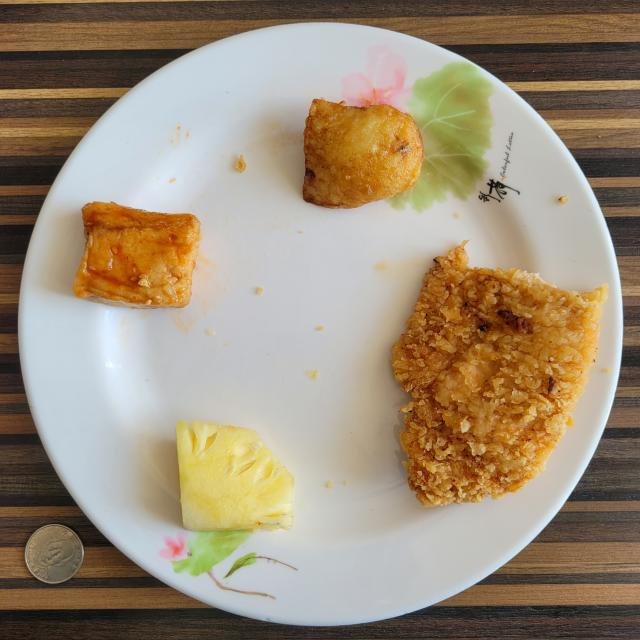coin: (25, 524, 84, 584)
creamy tofu: (72, 201, 201, 308)
fried chicken cutlet: (391, 242, 608, 506)
fried potato: (302, 99, 424, 209)
pineapple: (176, 421, 294, 531)
